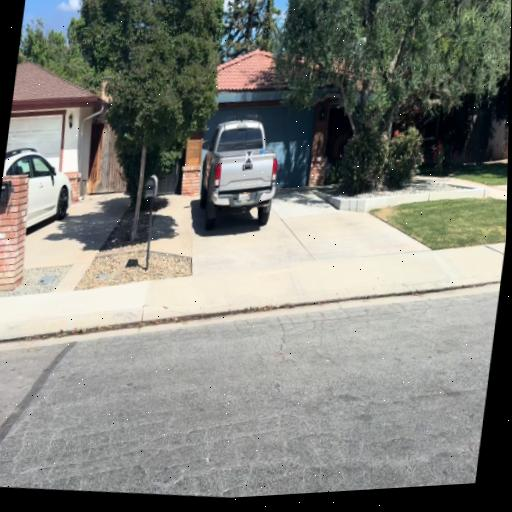target1: (245, 150, 253, 164)
